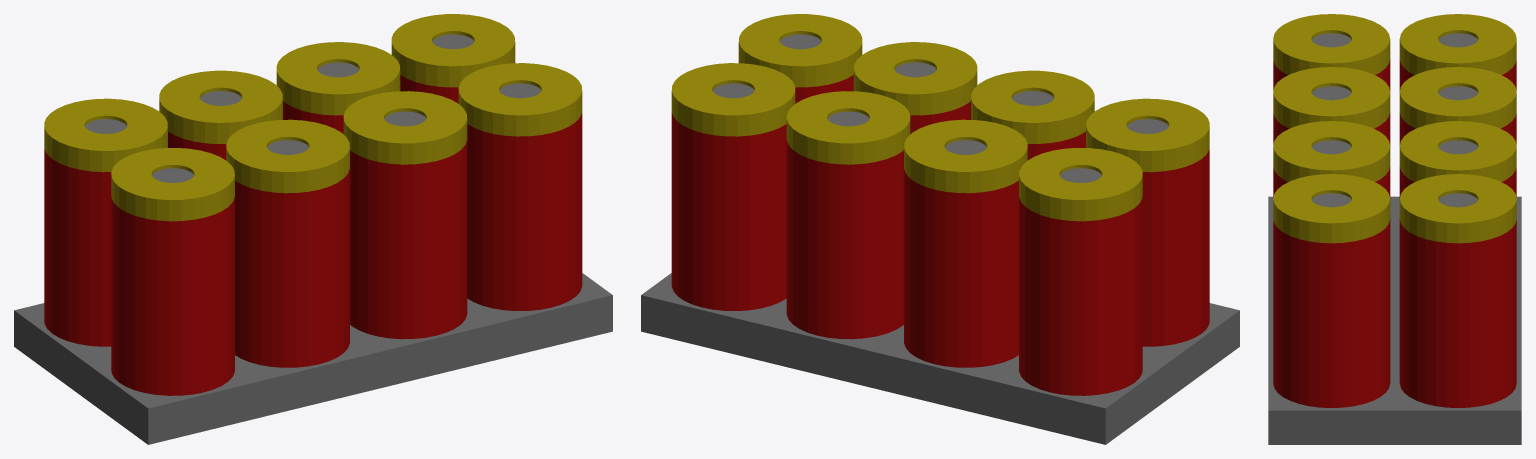
Rendered from shotgun pickup.fbx.
3 renders of one model, left to right at view 1: azimuth 30°, elevation 25°; view 2: azimuth 150°, elevation 25°; view 3: azimuth 270°, elevation 25°, orthographic. The views are drawn at different scales.
Visible parts, largest first — view 1: Cube; view 2: Cube; view 3: Cube.
Part boxes in pixels (bbox=[...]): Cube: bbox=[14, 14, 612, 444]; Cube: bbox=[641, 14, 1239, 444]; Cube: bbox=[1268, 14, 1521, 444].
Size of the model in its own units: 400 by 191 by 200.
